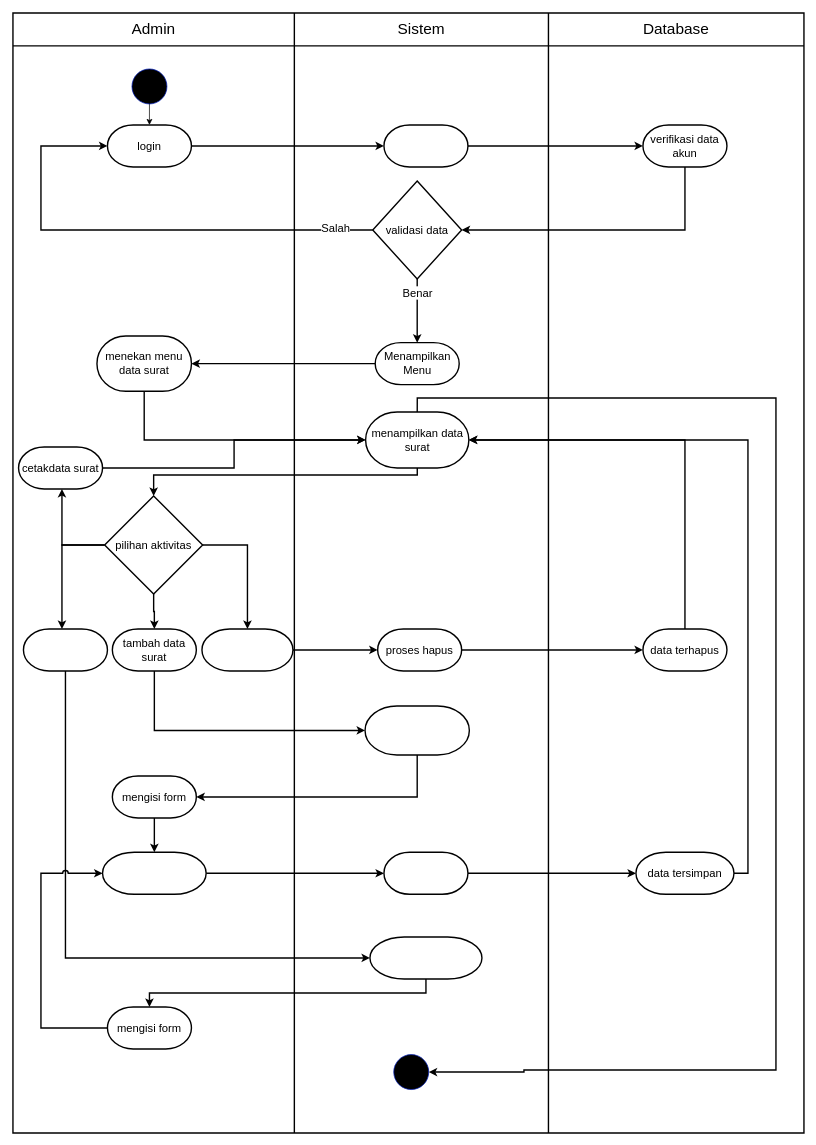
The diagram is 816 pixels wide and 1145 high, and some of its shapes have lost their labels. Each missing label, with the centre of its shape:
"hapus data surat" belongs at point 247,649.
"memproses simpan" belongs at point 425,873.
"menampilkan form tambah" belongs at point 417,730.
"menampilkan form ubah data" belongs at point 425,957.
"menekan tombol simpan" belongs at point 154,873.
"Mengirim data" belongs at point 425,145.
"ubah data surat" belongs at point 65,649.
